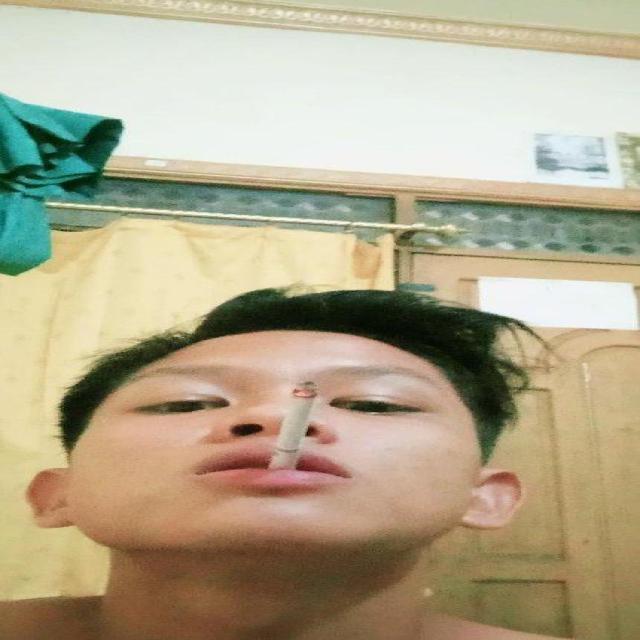rokok: (276, 378, 320, 470)
